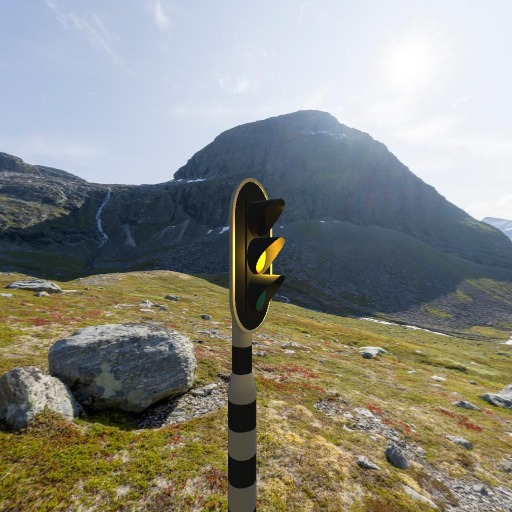Yellow_Light: (228, 176, 287, 334)
